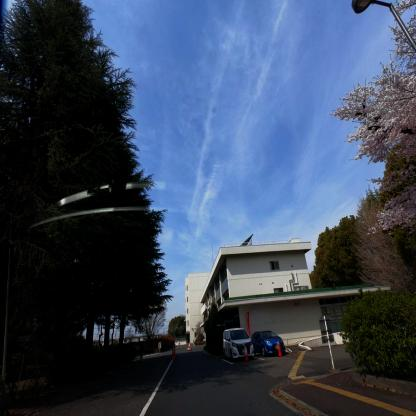Someiyoshino: (311, 0, 416, 269)
